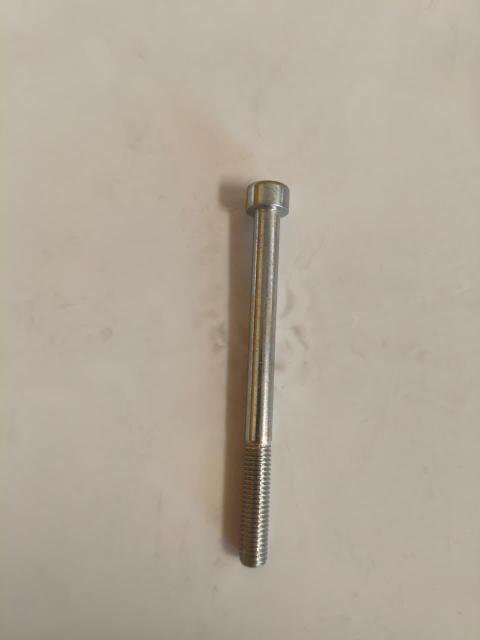Metal: (227, 162, 302, 573)
